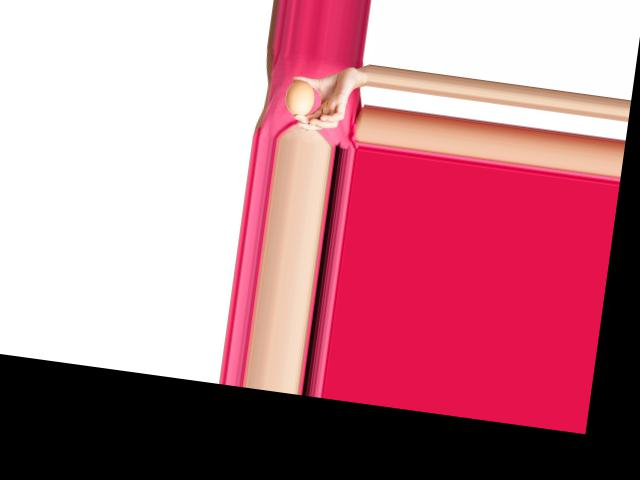egg: (284, 78, 316, 118)
